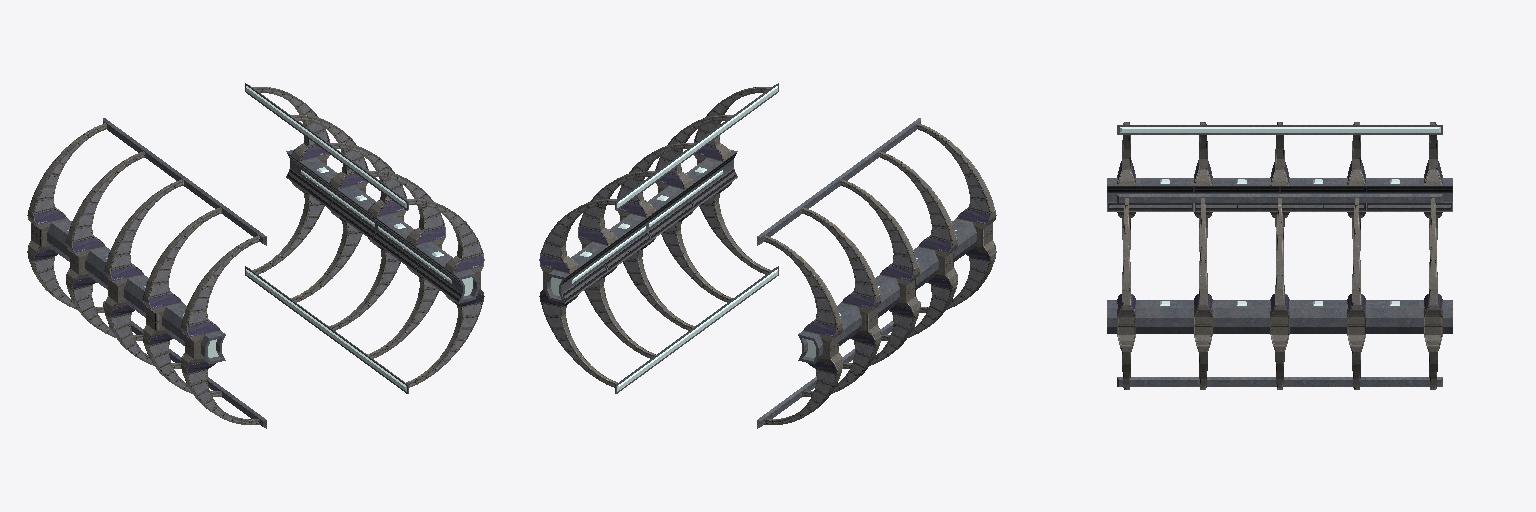
3 renders of one model, left to right at view 1: azimuth 30°, elevation 25°; view 2: azimuth 150°, elevation 25°; view 3: azimuth 270°, elevation 25°, orthographic.
Parts seen in each view (by area): view 1: polySurface12; view 2: polySurface12; view 3: polySurface12.
Boxes of the visible parts, <box> form: polySurface12: <box>27,83,484,428</box>; polySurface12: <box>539,83,996,428</box>; polySurface12: <box>1107,122,1452,389</box>.
Bounding box in the file's own units: 1790 × 1108 × 1800.
4 materials, 4 textured.